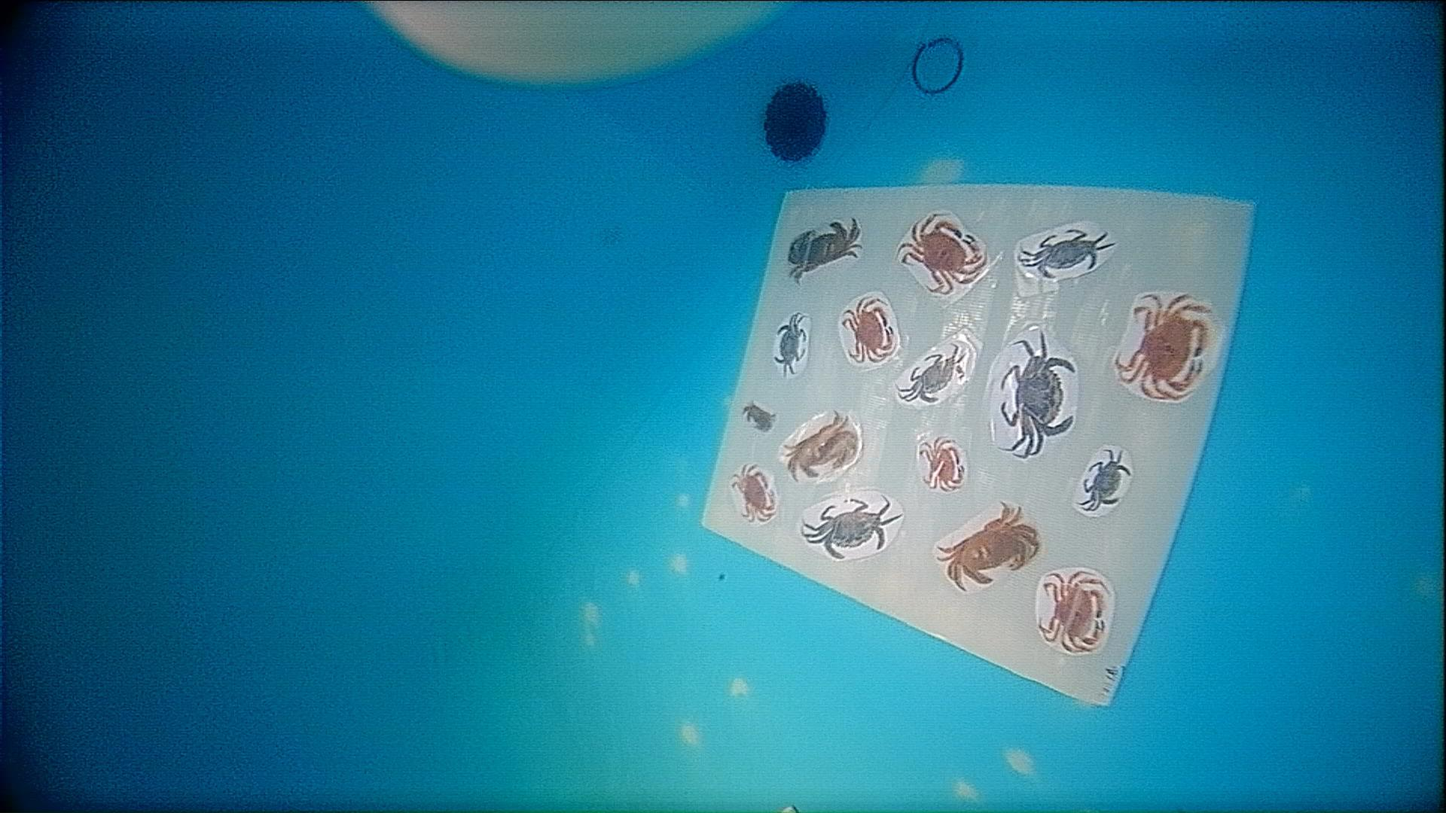GreenCrab: (1000, 334, 1075, 458), (802, 498, 901, 559), (1020, 228, 1114, 279), (1078, 449, 1131, 512)
